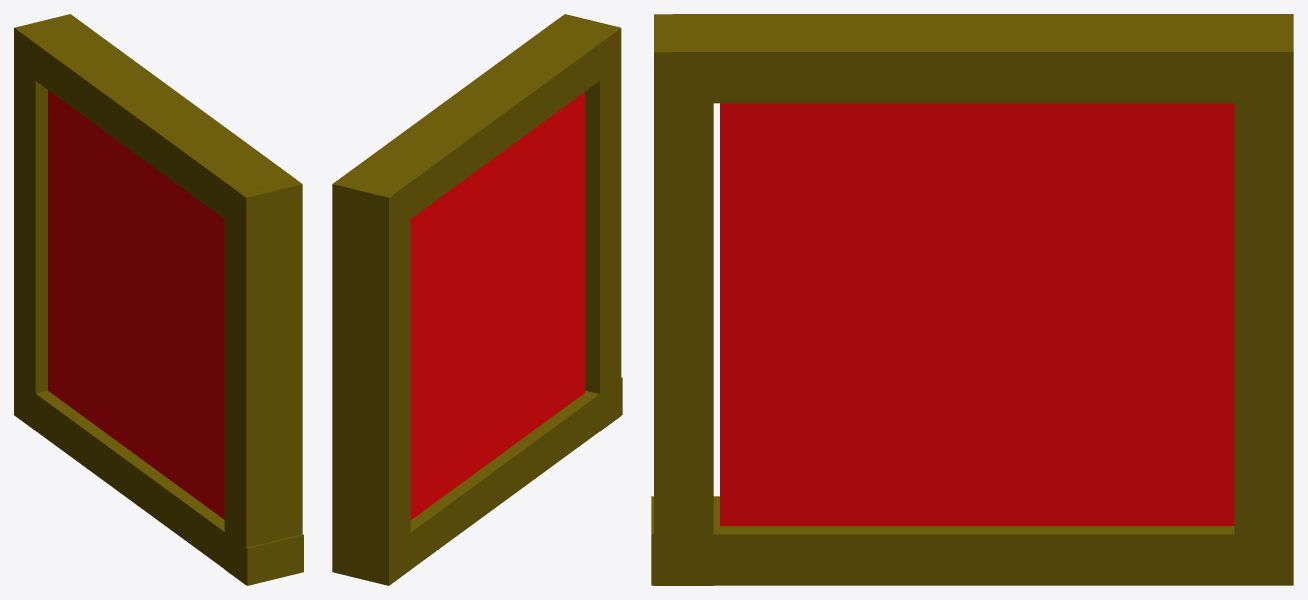
File: red paint.fbx
3 renders of one model, left to right at view 1: azimuth 30°, elevation 25°; view 2: azimuth 150°, elevation 25°; view 3: azimuth 270°, elevation 25°, orthographic. The views are drawn at different scales.
Parts seen in each view (by area): view 1: Cube, Cube.002, Cube.001, Cube.004, Cube.003; view 2: Cube, Cube.004, Cube.001, Cube.002, Cube.003; view 3: Cube, Cube.001, Cube.003, Cube.004, Cube.002.
Part boxes in pixels (bbox=[...]): Cube: bbox=[48, 90, 224, 519]; Cube.002: bbox=[224, 179, 302, 585]; Cube.001: bbox=[15, 28, 295, 229]; Cube.004: bbox=[14, 14, 91, 430]; Cube.003: bbox=[23, 385, 303, 585]; Cube: bbox=[410, 92, 584, 519]; Cube.004: bbox=[332, 168, 410, 585]; Cube.001: bbox=[354, 19, 614, 233]; Cube.002: bbox=[559, 14, 621, 431]; Cube.003: bbox=[397, 377, 622, 578]; Cube: bbox=[720, 103, 1234, 525]; Cube.001: bbox=[672, 14, 1291, 103]; Cube.003: bbox=[651, 496, 1269, 585]; Cube.004: bbox=[1234, 14, 1293, 585]; Cube.002: bbox=[654, 14, 713, 585].
Size of the model in its own units: 34.28 by 225 by 246.
